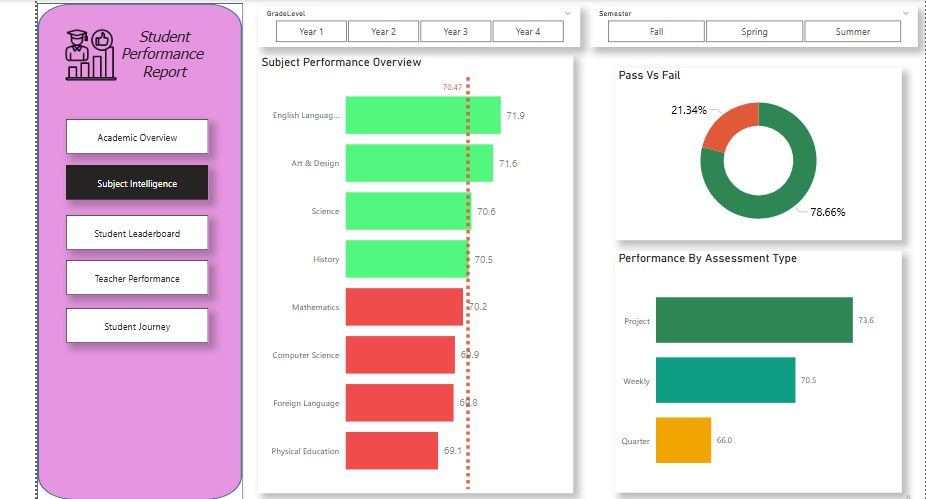

Layout of this report page (visuals, bound fields, positions):
{"tool":"powerbi","page":{"name":"Subject Intelligence","canvas":[1280,720],"ordinal":1},"visuals":[{"type":"slicer","fields":{"Values":["DimCalendar.Semester"]},"box":[796.3,8.6,472.3,59],"z":0},{"type":"clusteredBarChart","title":"Subject Performance Overview","fields":{"Y":["Measures (2).Avg_Score"],"Category":["DimSubjects.SubjectName"]},"box":[318.2,79.2,453.6,630.7],"z":1000},{"type":"slicer","fields":{"Values":["DimStudents.GradeLevel"]},"box":[318.2,8.6,463.7,59],"z":2000},{"type":"donutChart","title":"Pass Vs Fail","fields":{"Y":["Measures (2).Total Records"],"Category":["FactPerformance.PassedCourse"]},"box":[832.3,97.9,413.3,247.7],"z":3000},{"type":"clusteredBarChart","title":"Performance By Assessment Type","fields":{"Category":["DimAssessment.AssessmentType"],"Y":["Measures (2).Avg_Score"]},"box":[832.3,361.4,413.3,348.5],"z":4000},{"type":"image","box":[0,4.3,296.6,715.7],"z":5000},{"type":"pageNavigator","box":[41.8,237.6,205.9,50.4],"z":6000},{"type":"pageNavigator","box":[41.8,374.4,205.9,50.4],"z":7000},{"type":"pageNavigator","box":[41.8,443.5,205.9,50.4],"z":8000},{"type":"pageNavigator","box":[41.8,309.6,205.9,50.4],"z":9000},{"type":"pageNavigator","box":[41.8,171.4,205.9,50.4],"z":10000},{"type":"image","box":[40.3,34.6,74.9,89.3],"z":11000},{"type":"textbox","box":[99.4,34.6,167,108],"z":12000}]}

Visuals, with their boxes on the page's 1280x720 design canvas (x1, y1, x2, y2). These are canvas units, not pixel positions in the 926x499 screenshot, which may show the page scaled, cropped or inside an application window:
slicer - DimCalendar.Semester: <region>796, 9, 1269, 68</region>
"Subject Performance Overview" clusteredBarChart: <region>318, 79, 772, 710</region>
slicer - DimStudents.GradeLevel: <region>318, 9, 782, 68</region>
"Pass Vs Fail" donutChart: <region>832, 98, 1246, 346</region>
"Performance By Assessment Type" clusteredBarChart: <region>832, 361, 1246, 710</region>
image: <region>0, 4, 297, 720</region>
pageNavigator: <region>42, 238, 248, 288</region>
pageNavigator: <region>42, 374, 248, 425</region>
pageNavigator: <region>42, 444, 248, 494</region>
pageNavigator: <region>42, 310, 248, 360</region>
pageNavigator: <region>42, 171, 248, 222</region>
image: <region>40, 35, 115, 124</region>
textbox: <region>99, 35, 266, 143</region>
